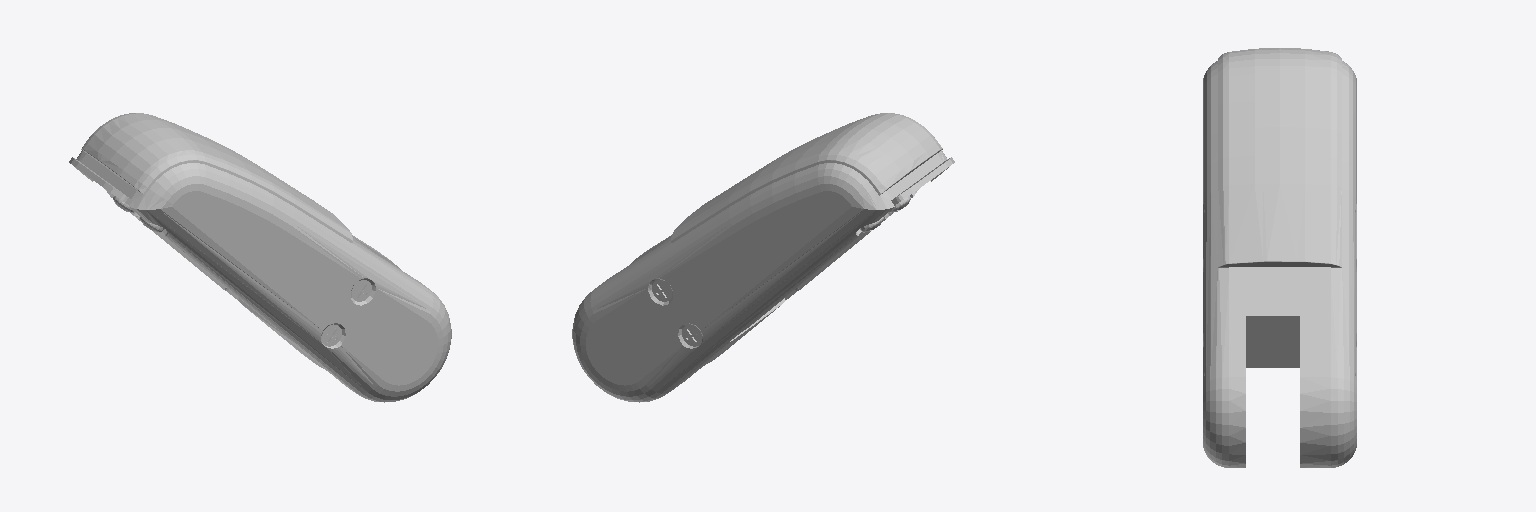
The model's file is dist_link.obj.
3 renders of one model, left to right at view 1: azimuth 30°, elevation 25°; view 2: azimuth 150°, elevation 25°; view 3: azimuth 270°, elevation 25°, orthographic.
Visible parts, largest first — view 1: dist_link, dist_link_mat; view 2: dist_link, dist_link_mat; view 3: dist_link, dist_link_mat.
Part boxes in pixels (left/top/right/bottom): dist_link: left=69, top=143, right=451, bottom=402; dist_link_mat: left=86, top=113, right=352, bottom=240; dist_link: left=572, top=143, right=954, bottom=402; dist_link_mat: left=671, top=113, right=937, bottom=240; dist_link: left=1203, top=61, right=1356, bottom=467; dist_link_mat: left=1218, top=48, right=1341, bottom=267.
Size of the model in its own units: 0.0572 by 0.0498 by 0.023.